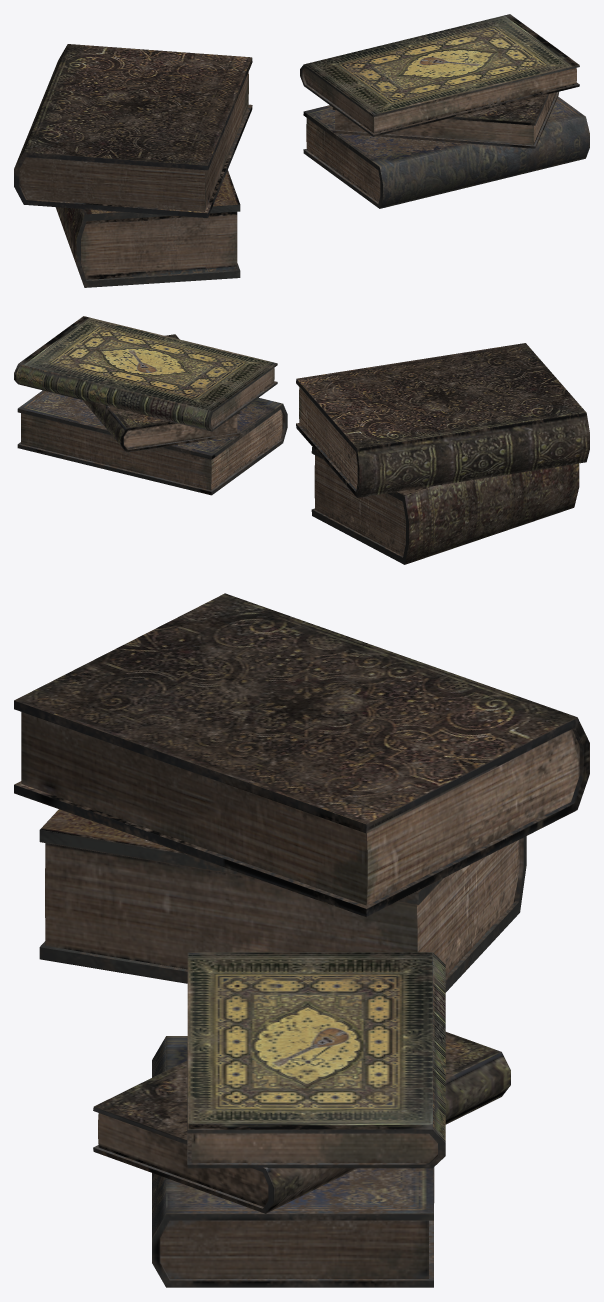
Rendered from hard_cover_books.glb.
3 views of the same model, one above another, from view 1: azimuth 30°, elevation 25°; view 2: azimuth 150°, elevation 25°; view 3: azimuth 270°, elevation 25° (orthographic). The views are drawn at different scales.
Visible parts, largest first — view 1: Books; view 2: Books; view 3: Books.
Part boxes in pixels (bbox=[...]): Books: bbox=[14, 14, 589, 287]; Books: bbox=[14, 316, 589, 564]; Books: bbox=[14, 593, 589, 1287].
Bounding box in the file's own units: 67.16 × 14.67 × 34.07.
Materials: 1 (1 with a texture image).
